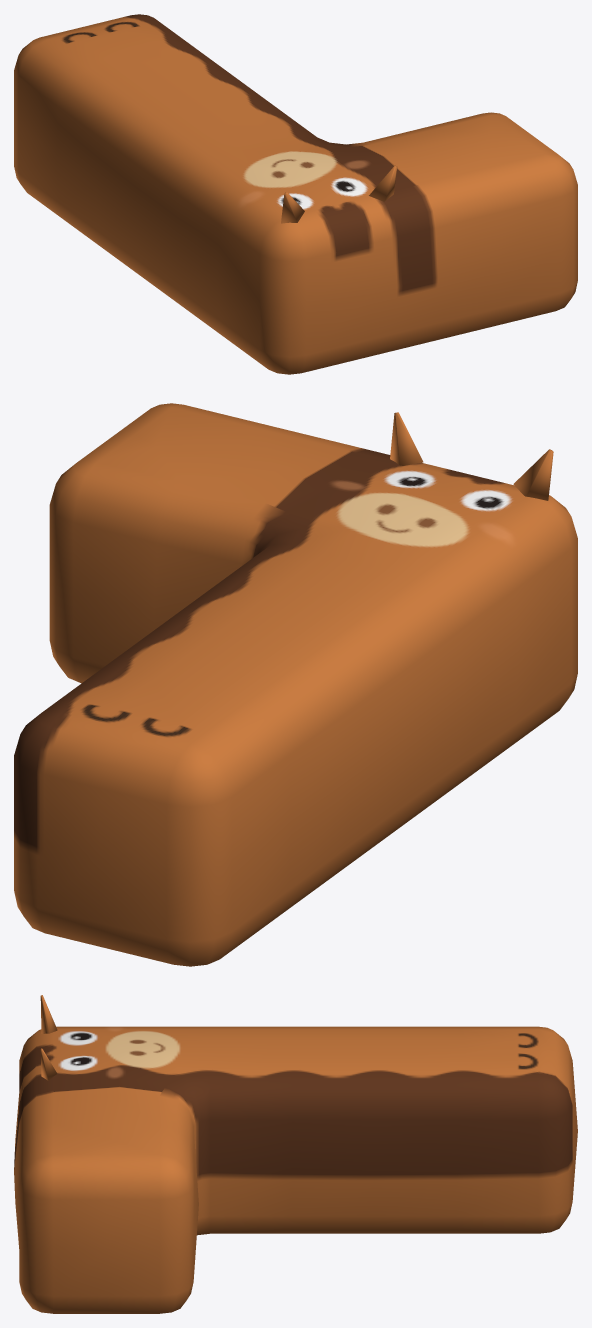
The model's file is Horse_L.fbx.
3 renders of one model, top to bottom at view 1: azimuth 30°, elevation 25°; view 2: azimuth 150°, elevation 25°; view 3: azimuth 270°, elevation 25°, orthographic. The views are drawn at different scales.
Parts seen in each view (by area): view 1: Horse_L; view 2: Horse_L; view 3: Horse_L.
Boxes of the visible parts, bbox=[...] form: Horse_L: bbox=[14, 14, 577, 374]; Horse_L: bbox=[14, 403, 577, 966]; Horse_L: bbox=[14, 995, 577, 1313].
Size of the model in its own units: 1.98 by 1.04 by 2.98.
1 material, 1 textured.
